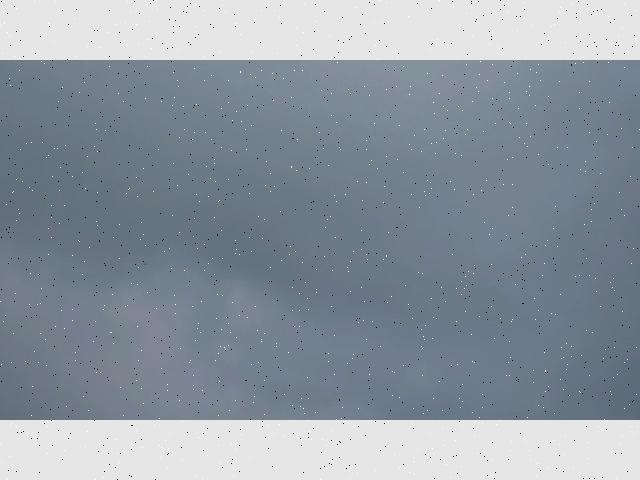Anti-Drone: (142, 262, 148, 266)
